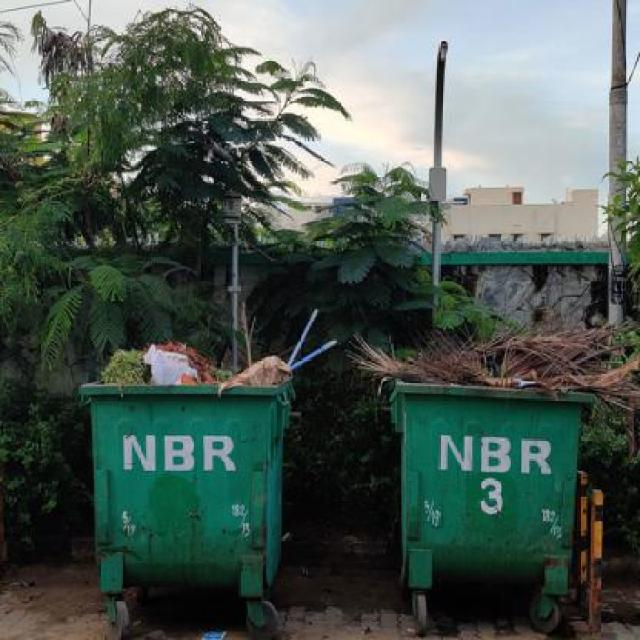garbage container: (61, 377, 302, 638), (380, 374, 605, 638)
